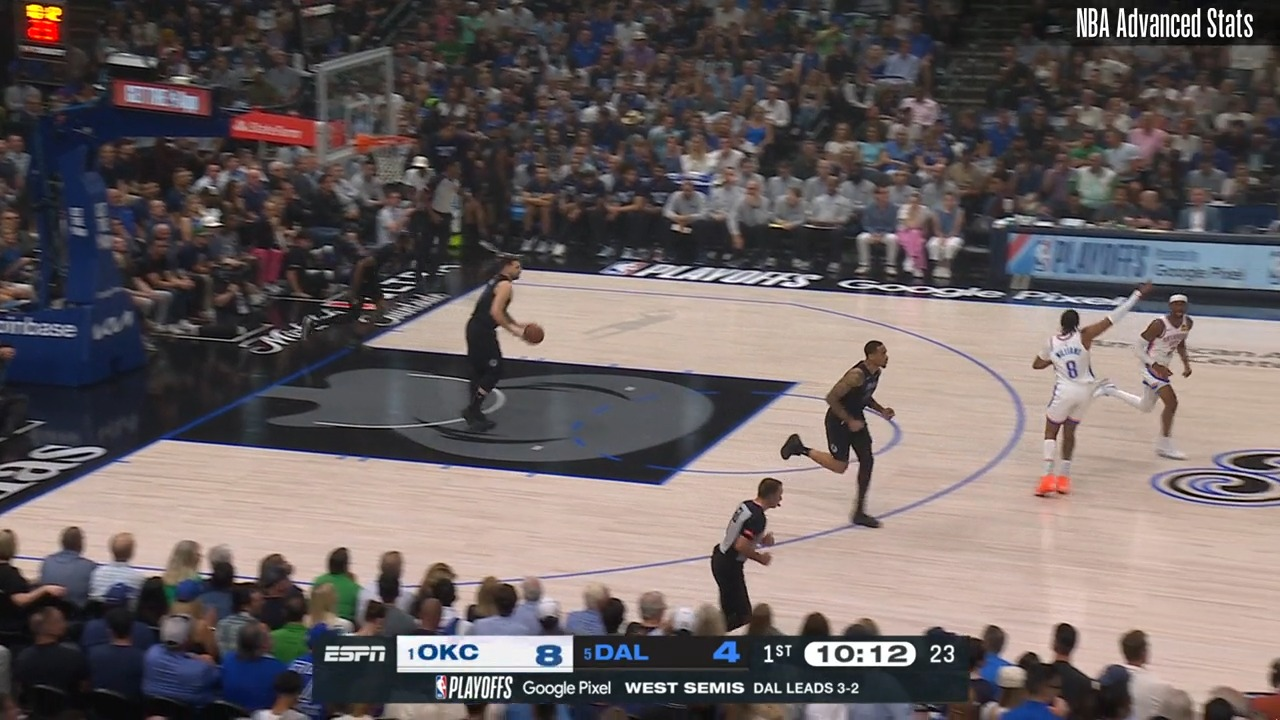basketball: (522, 323, 545, 345)
